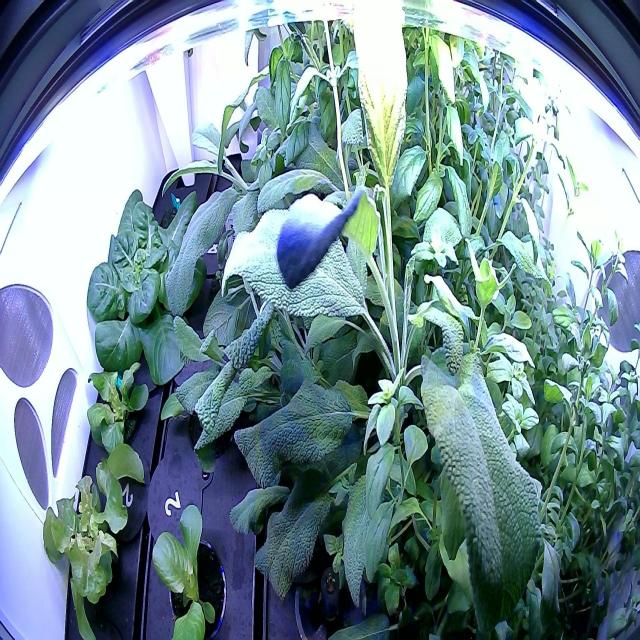young: (64, 177, 220, 396), (144, 501, 234, 639), (73, 358, 153, 465)
